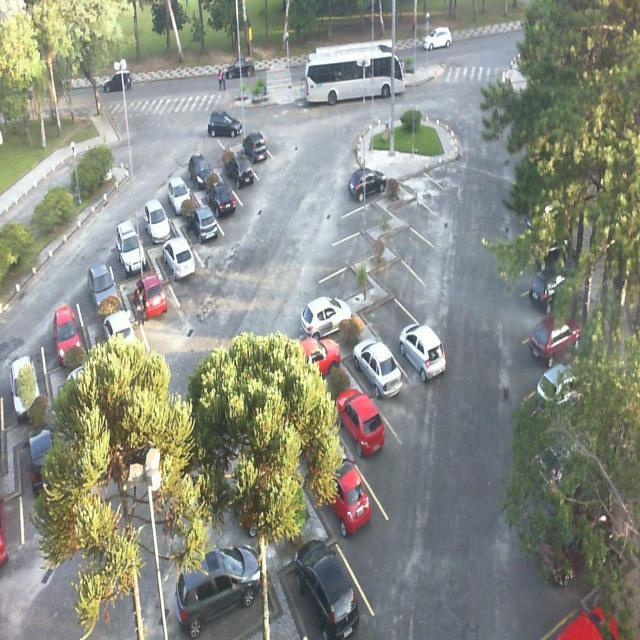Car: (188, 524, 282, 632), (288, 506, 364, 630), (314, 449, 392, 559), (332, 380, 400, 480), (350, 326, 412, 407), (42, 278, 88, 363), (291, 284, 354, 345), (75, 235, 124, 313), (131, 258, 177, 332), (108, 206, 152, 278), (161, 222, 201, 288), (181, 190, 223, 252), (137, 186, 179, 244), (207, 168, 246, 218), (162, 158, 198, 212), (222, 138, 260, 188), (345, 154, 393, 192), (184, 138, 218, 188), (240, 120, 274, 169)
Vacant: (357, 278, 417, 347), (374, 236, 429, 297), (316, 240, 372, 290), (318, 210, 376, 256), (384, 202, 434, 254), (395, 176, 443, 221), (405, 154, 451, 198), (342, 182, 392, 222), (200, 115, 237, 166)
